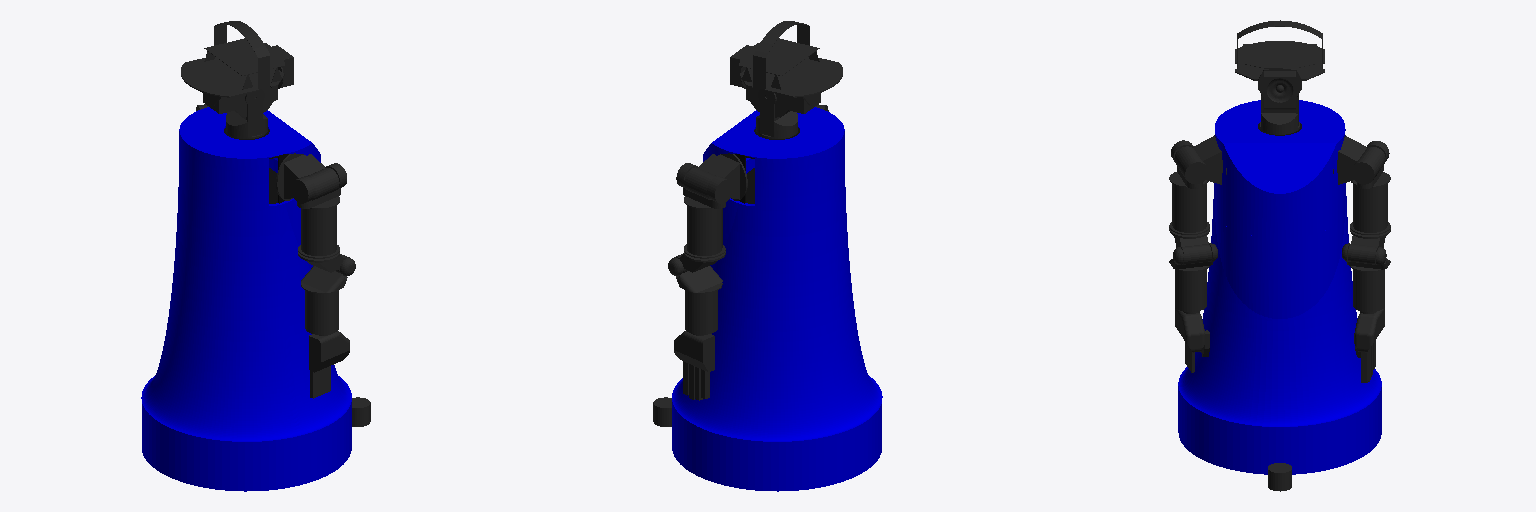
robot.urdf — sobit:
<?xml version="1.0"?>
<robot name="sobit">

<material name="black">
        <color rgba="0.2 0.2 0.2 0.95"/>
      </material>

<material name="black2">
        <color rgba="0.1 0.1 0.1 1.0"/>
      </material>

<material name="bule">
        <color rgba="0.0 0.0 0.9 0.9"/>
      </material>


  <!--base_frame link-->
  <link name="base_frame">
	<collision>
		<origin rpy="0 0 0" xyz="0 0 0.06"/>
		<geometry>
        	<mesh filename="package://sobit_description/mesh/stl/SOBIT_MainFrame v1.stl"/>
      	</geometry>
	</collision>

    <visual>
    	<geometry>
        	<mesh filename="package://sobit_description/mesh/stl/SOBIT_MainFrame v1.stl"/>
    	</geometry>
    	<origin rpy="0 0 0" xyz="0 0 0.06"/>
    	<material name="black2">
    	</material>
    </visual>
  </link>

  <!--#### wheel ##################################################################-->
  <!--left_wheel link-->
  <link name="left_wheel">
    <visual>
      <geometry>
        <mesh filename="package://sobit_description/mesh/stl/wheel.stl"/>
      </geometry>
      <origin rpy="0 0 0" xyz="0 0 0"/>
      <material name="black">
      </material>
    </visual>
  </link>
  <!--right_wheel link-->
  <link name="right_wheel">
    <visual>
      <geometry>
        <mesh filename="package://sobit_description/mesh/stl/wheel.stl"/>
      </geometry>
      <origin rpy="0 0 0" xyz="0 0 0"/>
      <material name="black">
      </material>
    </visual>
  </link>

  <!--left_wheel joint-->
  <joint name="L_wheel" type="continuous">
    <parent link="base_frame"/>
    <child link="left_wheel"/>
    <axis xyz="0 1 0"/>
    <origin xyz="0.08 0.16 0.05"/>
  </joint>
  <!--right_wheel joint-->
  <joint name="R_wheel" type="continuous">
    <parent link="base_frame"/>
    <child link="right_wheel"/>
    <axis xyz="0 1 0"/>
    <origin xyz="0.08 -0.16 0.05"/>
  </joint>



  <!--#### left_arm ##################################################################-->
  <!--left_shoulder link-->
  <link name="left_shoulder">
    <visual>
      <geometry>
        <mesh filename="package://sobit_description/mesh/stl/SOBIT_shoulder v1.stl"/>
      </geometry>
      <origin rpy="0 0 3.14" xyz="0 0 0"/>
      <material name="black">
      </material>
    </visual>
  </link>
  <!--left_First_arm link-->
  <link name="left_first_arm">
    <visual>
      <geometry>
        <mesh filename="package://sobit_description/mesh/stl/first_arm.stl"/>
      </geometry>
      <origin rpy="0 0 0" xyz="0 0 -0.17"/>
      <material name="black">
      </material>
    </visual>
  </link>
  <!--left_elbow link-->
  <link name="left_elbow">
    <visual>
      <geometry>
        <mesh filename="package://sobit_description/mesh/stl/SOBIT_elbow v2.stl"/>
      </geometry>
      <origin rpy="0 0 3.14" xyz="0 0 0"/>
      <material name="black">
      </material>
    </visual>
  </link>
  <!--left_second_arm link-->
  <link name="left_second_arm">
    <visual>
      <geometry>
        <mesh filename="package://sobit_description/mesh/stl/SOBIT_second_arm v2.stl"/>
      </geometry>
      <origin rpy="0 0 3.14" xyz="0 0 0"/>
      <material name="black">
      </material>
    </visual>
  </link>

  <!--left_shoulder to left_first_arm joint-->
  <joint name="L_shoulder_roll" type="revolute">
    <parent link="left_shoulder"/>
    <child link="left_first_arm"/>
    <axis xyz="1 0 0"/>
    <origin rpy="0.0 0 0" xyz="0.00 0.075 0"/>
     <limit effort="1000" lower="0" upper="3.14" velocity="0.5"/>
  </joint>

  <!--left_shoulder_pitch joint-->
  <joint name="L_shoulder_pitch" type="revolute">
    <parent link="base_frame"/>
    <child link="left_shoulder"/>
    <axis xyz="0 -1 0"/>
    <origin rpy="0 0 6.0" xyz="0.05 0.15 0.79"/>
     <limit effort="1000" lower="-1.571" upper="3.14" velocity="0.5"/>
  </joint>

  <!--left_elbow_yaw joint-->
  <joint name="L_elbow_yaw" type="revolute">
    <parent link="left_first_arm"/>
    <child link="left_elbow"/>
    <axis xyz="0 0 1"/>
    <origin rpy="0 0 1.571" xyz="0.00 0 -0.175"/>
     <limit effort="1000" lower="-3.14" upper="1.571" velocity="0.5"/>
  </joint>

  <!--left_elbow to left_second_arm joint-->
  <joint name="L_elbow_pitch" type="revolute">
    <parent link="left_elbow"/>
    <child link="left_second_arm"/>
    <axis xyz="-1 0 0"/>
    <origin rpy="0 0 0" xyz="0.00 -0.055 -0.045"/>
     <limit effort="1000" lower="-0.3" upper="3.14" velocity="0.5"/>
  </joint>
 


 <!--#### right_arm ##################################################################-->
 <!--right_shoulder link-->
  <link name="right_shoulder">
    <visual>
      <geometry>
        <mesh filename="package://sobit_description/mesh/stl/SOBIT_shoulder v1.stl"/>
      </geometry>
      <origin rpy="0 0 0" xyz="0 0 0"/>
      <material name="black">
      </material>
    </visual>
  </link>
  <!--right_First_arm link-->
  <link name="right_first_arm">
    <visual>
      <geometry>
        <mesh filename="package://sobit_description/mesh/stl/first_arm.stl"/>
      </geometry>
      <origin rpy="0 0 0" xyz="0 0 -0.17"/>
      <material name="black">
      </material>
    </visual>
  </link>
  <!--right_elbow link-->
  <link name="right_elbow">
    <visual>
      <geometry>
        <mesh filename="package://sobit_description/mesh/stl/SOBIT_elbow v2.stl"/>
      </geometry>
      <origin rpy="0 0 0" xyz="0 0 0"/>
      <material name="black">
      </material>
    </visual>
  </link>
  <!--right_second_arm link-->
  <link name="right_second_arm">
    <visual>
      <geometry>
        <mesh filename="package://sobit_description/mesh/stl/SOBIT_second_arm v2.stl"/>
      </geometry>
      <origin rpy="0 0 0" xyz="0 0 0"/>
      <material name="black">
      </material>
    </visual>
  </link>

  <!--right_shoulder to right_first_arm joint-->
  <joint name="R_shoulder_roll" type="revolute">
    <parent link="right_shoulder"/>
    <child link="right_first_arm"/>
    <axis xyz="-1 0 0"/>
    <origin rpy="0.0 0 0" xyz="0.00 -0.075 0"/>
     <limit effort="1000" lower="0" upper="3.14" velocity="0.5"/>
  </joint>
  <!--shoulder_pitch-->
  <joint name="R_shoulder_pitch" type="revolute">
    <parent link="base_frame"/>
    <child link="right_shoulder"/>
    <axis xyz="0 -1 0"/>
    <origin rpy="0 0 0.27" xyz="0.05 -0.15 0.79"/>
     <limit effort="1000" lower="-1.571" upper="3.14" velocity="0.5"/>
  </joint>
  <!--elbow_yaw joint-->
  <joint name="R_elbow_yaw" type="revolute">
    <parent link="right_first_arm"/>
    <child link="right_elbow"/>
    <axis xyz="0 0 -1"/>
    <origin rpy="0 0 -1.571" xyz="0.00 0 -0.175"/>
     <limit effort="1000" lower="-3.14" upper="1.571" velocity="0.5"/>
  </joint>
  <!--elbow_pitch joint-->
  <joint name="R_elbow_pitch" type="revolute">
    <parent link="right_elbow"/>
    <child link="right_second_arm"/>
    <axis xyz="1 0 0"/>
    <origin rpy="0 0 0" xyz="0.00 0.055 -0.045"/>
     <limit effort="1000" lower="-0.3" upper="3.14" velocity="0.5"/>
  </joint>

   
  <!--#### head #############################################################-->
  <!--neck_link-->
  <link name="neck">
    <visual>
      <geometry>
        <mesh filename="package://sobit_description/mesh/stl/SOBIT_neck.stl"/>
      </geometry>
      <origin rpy="0 0 1.517" xyz="0 0 0"/>
      <material name="black">
      </material>
    </visual>
  </link>
  <!--chin_link-->
  <link name="chin">
    <visual>
      <geometry>
        <mesh filename="package://sobit_description/mesh/stl/SOBIT_chin.stl"/>
      </geometry>
      <origin rpy="0 0 0" xyz="0 0 0"/>
      <material name="black">
      </material>
    </visual>
  </link>
  <!--head_link-->
  <link name="head">
    <visual>
      <geometry>
        <mesh filename="package://sobit_description/mesh/stl/SOBIT_head.stl"/>
      </geometry>
      <origin rpy="0 0 0" xyz="0 0 0"/>
      <material name="black">
      </material>
    </visual>
  </link>

  <!--neck pitch joint-->
  <joint name="neck_pitch" type="revolute">
    <parent link="neck"/>
    <child link="chin"/>
    <axis xyz="0 -1 0"/>
    <origin rpy="0 0 0" xyz="0 0 0.11"/>
     <limit effort="1000" lower="-0.505" upper="0.505" velocity="0.5"/>
  </joint>
  <!--neck yaw joint-->
  <joint name="neck_yaw" type="revolute">
    <parent link="chin"/>
    <child link="head"/>
    <axis xyz="-1 0 0"/>
    <origin rpy="0 0 0" xyz="-0.016 0 0"/>
     <limit effort="1000" lower="-0.505" upper="0.505" velocity="0.5"/>
  </joint>
  <!--neck roll-->
  <joint name="neck_roll" type="revolute">
    <parent link="base_frame"/>
    <child link="neck"/>
    <axis xyz="0 0 -1"/>
    <origin rpy="0 0 0" xyz="0 0 0.86"/>
     <limit effort="1000" lower="-1.571" upper="1.571" velocity="0.5"/>
  </joint>


  <!--#### left_hand ############################################################-->
  <!--left_hand_link-->
  <link name="left_hand">
    <visual>
      <geometry>
        <mesh filename="package://sobit_description/mesh/stl/SOBIT_hand.stl"/>
      </geometry>
      <origin rpy="0 0 -3.14" xyz="0 0 0"/>
      <material name="black">
      </material>
    </visual>
  </link>
  <!--left_thumb_link-->
  <link name="left_hand_thumb">
    <visual>
      <geometry>
        <mesh filename="package://sobit_description/mesh/stl/SOBIT_thumb.stl"/>
      </geometry>
      <origin rpy="0 0 -3.14" xyz="0 0 0"/>
      <material name="black">
      </material>
    </visual>
  </link>
  <!--left_index_link-->
  <link name="left_hand_index">
    <visual>
      <geometry>
        <mesh filename="package://sobit_description/mesh/stl/SOBIT_index.stl"/>
      </geometry>
      <origin rpy="0 0 0" xyz="0 0 0"/>
      <material name="black">
      </material>
    </visual>
  </link>
  <!--left_middle_link-->
  <link name="left_hand_middle">
    <visual>
      <geometry>
         <mesh filename="package://sobit_description/mesh/stl/SOBIT_index.stl" scale="1 1 1.0588"/>
      </geometry>
      <origin rpy="0 0 0" xyz="0 0 0"/>
      <material name="black">
      </material>
    </visual>
  </link>
  <!--left_ring_link-->
  <link name="left_hand_ring">
    <visual>
      <geometry>
         <mesh filename="package://sobit_description/mesh/stl/SOBIT_index.stl" scale="1 1 1"/>
      </geometry>
      <origin rpy="0 0 0" xyz="0 0 0"/>
      <material name="black">
      </material>
    </visual>
  </link>
  <!--left_pinky_link-->
  <link name="left_hand_pinky">
    <visual>
      <geometry>
         <mesh filename="package://sobit_description/mesh/stl/SOBIT_index.stl" scale="1 1 0.88"/>
      </geometry>
      <origin rpy="0 0 0" xyz="0 0 0"/>
      <material name="black">
      </material>
    </visual>
  </link>

  <!--left_hand_wrist joint-->
  <joint name="L_hand_wrist" type="revolute">
    <parent link="left_second_arm"/>
    <child link="left_hand"/>
    <axis xyz="0 0 -1"/>
    <origin rpy="0 0 1.571" xyz="0 0.04 -0.17"/>
     <limit effort="1000" lower="-1.571" upper="1.571" velocity="0.5"/>
  </joint>
  <!--left_hand_thumb joint-->
  <joint name="L_hand_thumb" type="revolute">
    <parent link="left_hand"/>
    <child link="left_hand_thumb"/>
    <axis xyz="0 1 0"/>
    <origin rpy="0 0 0" xyz="-0.04 0.02 -0.055"/>
     <limit effort="1000" lower="-1.571" upper="1.571" velocity="0.5"/>
  </joint>
  <!--left_hand_index joint-->
  <joint name="left_hand_index" type="revolute">
    <parent link="left_hand"/>
    <child link="left_hand_index"/>
    <axis xyz="-1 0 0"/>
    <origin rpy="0 0 0" xyz="-0.04 -0.01 -0.09"/>
     <limit effort="1000" lower="-3.14" upper="0" velocity="0.5"/>
  </joint> 
  <!--left_hand_middle joint-->
  <joint name="L_hand_middle" type="revolute">
    <parent link="left_hand"/>
    <child link="left_hand_middle"/>
    <axis xyz="-1 0 0"/>
    <origin rpy="0 0 0" xyz="-0.02 -0.01 -0.09"/>
     <limit effort="1000" lower="-3.14" upper="0" velocity="0.5"/>
  </joint> 
  <!--left_hand_ring joint-->
  <joint name="L_hand_ring" type="revolute">
    <parent link="left_hand"/>
    <child link="left_hand_ring"/>
    <axis xyz="-1 0 0"/>
    <origin rpy="0 0 0" xyz="0 -0.01 -0.09"/>
     <limit effort="1000" lower="-3.14" upper="0" velocity="0.5"/>
  </joint> 
  <!--left_hand_pinky joint-->
  <joint name="L_hand_pinky" type="revolute">
    <parent link="left_hand"/>
    <child link="left_hand_pinky"/>
    <axis xyz="-1 0 0"/>
    <origin rpy="0 0 0" xyz="0.02 -0.01 -0.09"/>
     <limit effort="1000" lower="-3.14" upper="0" velocity="0.5"/>
  </joint> 

  <!--#### right_hand ############################################################-->
  <!--right_hand_link-->
  <link name="right_hand">
    <visual>
      <geometry>
        <mesh filename="package://sobit_description/mesh/stl/SOBIT_hand_right.stl"/>
      </geometry>
      <origin rpy="0 0 3.14" xyz="0 0 0"/>
      <material name="black">
      </material>
    </visual>
  </link>
   <!--right_thumb_link-->
  <link name="right_hand_thumb">
    <visual>
      <geometry>
        <mesh filename="package://sobit_description/mesh/stl/SOBIT_thumb_right.stl"/>
      </geometry>
      <origin rpy="0 3.14 0" xyz="0 0 0"/>
      <material name="black">
      </material>
    </visual>
  </link>
  <!--right_hand_twist link-->
  <link name="right_hand_twist">
    <visual>
      <geometry>
        <box size="0.06 0.01 0.07"/>
      </geometry>
      <origin rpy="0 0 0" xyz="0.03 0.01 -0.035"/>
      <material name="black">
      </material>
    </visual>
  </link>

  <!--right_hand_wrist joint-->
  <joint name="right_arm_to_right_hand" type="fixed">
    <parent link="right_second_arm"/>
    <child link="right_hand"/>
    <origin rpy="0 0 -1.571" xyz="0 -0.04 -0.17"/>  
  </joint>
  <!--right_hand_wrist joint-->
  <joint name="right_hand_to_right_thumb" type="fixed">
    <parent link="right_hand"/>
    <child link="right_hand_thumb"/>
    <origin rpy="0 0 0" xyz="-0.04 -0.035 -0.055"/>
  </joint> 
  <!--right_hand_twist joint-->
  <joint name="R_hand_twist" type="revolute">
    <parent link="right_hand"/>
    <child link="right_hand_twist"/>
    <axis xyz="1 0 0"/>
    <origin rpy="0 0 0" xyz="-0.02 -0.01 -0.09"/>
     <limit effort="1000" lower="-3.14" upper="0" velocity="0.5"/>
  </joint>



 <!--#### body_cover ####################################################-->
  <!--body_cover link-->
  <link name="body_cover">
    <visual>
      <geometry>
        <mesh filename="package://sobit_description/mesh/stl/SOBIT_body1.stl"/>
      </geometry>
      <origin rpy="0 0 0" xyz="0 0 0"/>
      <material name="bule">
      </material>
    </visual>
  </link>

  <!--body_cover joint-->
  <joint name="baseframe to body_cover" type="fixed">
    <parent link="base_frame"/>
    <child link="body_cover"/>
    <origin rpy="0 0 0" xyz="0 0 0.03"/>
  </joint> 


  
  <!--#### lidar_sensor ####################################################-->
  <!--lidar link-->
  <link name="lidar">
    <visual>
      <geometry>
        <cylinder length="0.05" radius="0.03"/>
      </geometry>
      <origin rpy="0 0 0" xyz="0 0 0"/>
      <material name="black">
      </material>
    </visual>
  </link>

  <!--lidar joint-->
  <joint name="lidar" type="fixed">
    <parent link="base_frame"/>
    <child link="lidar"/>
    <origin rpy="0 0 3.14" xyz="0.305 0 0.05"/>
  </joint> 

</robot>

--- Facts derived from the render (not from the file) ---
Views: 3 orthographic renders of the robot side by side, from view 1: azimuth 30°, elevation 25°; view 2: azimuth 150°, elevation 25°; view 3: azimuth 270°, elevation 25°.
Robot: sobit — 25 links, 24 joints (18 revolute, 2 continuous, 4 fixed); root link base_frame; default pose: every joint at zero.
Visible links, largest first — view 1: body_cover, head, right_first_arm, right_second_arm, right_shoulder, neck, right_hand, chin, right_hand_twist, lidar; view 2: body_cover, head, left_first_arm, left_second_arm, left_shoulder, neck, left_hand, chin, lidar; view 3: body_cover, head, left_first_arm, right_first_arm, right_second_arm, left_second_arm, right_shoulder, left_shoulder, neck, left_hand, right_hand, left_elbow (+2 smaller).
Link boxes in pixels (x1,y1,x2,y2): body_cover: (141,107,351,491); head: (181,21,293,106); right_first_arm: (291,163,346,258); right_second_arm: (301,258,355,334); right_shoulder: (276,153,339,200); neck: (226,89,267,138); right_hand: (309,331,349,372); chin: (203,86,277,116); right_hand_twist: (310,366,330,398); lidar: (352,397,370,426); body_cover: (672,107,882,491); head: (730,21,842,106); left_first_arm: (676,163,732,258); left_second_arm: (668,257,722,334); left_shoulder: (684,153,747,200); neck: (756,89,797,138); left_hand: (674,331,714,371); chin: (746,86,820,117); lidar: (653,397,671,426); body_cover: (1178,100,1381,474); head: (1235,20,1324,105); left_first_arm: (1350,141,1390,234); right_first_arm: (1169,140,1209,234); right_second_arm: (1169,243,1217,311); left_second_arm: (1342,243,1390,311); right_shoulder: (1174,135,1226,184); left_shoulder: (1333,135,1385,184); neck: (1260,94,1299,134); left_hand: (1354,308,1384,352); right_hand: (1175,308,1204,352); left_elbow: (1348,228,1390,264).
Size in the robot's own frame: 0.5852 by 0.5446 by 1.13 metres.
23 mesh visuals loaded from 15 distinct referenced files (15 binary STL).
